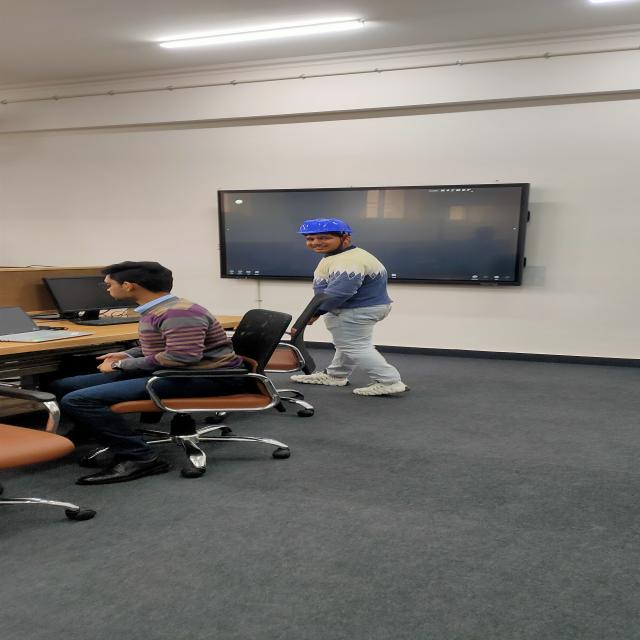no jacket: (290, 218, 412, 396)
unsafe: (63, 262, 245, 484)
